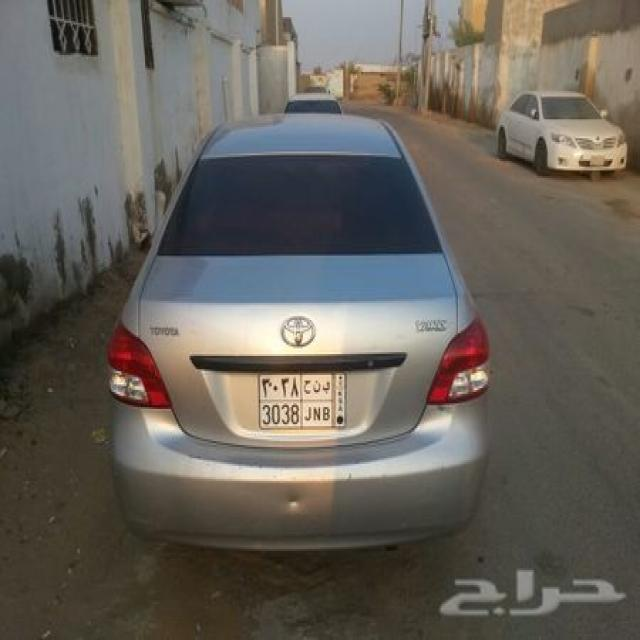license_plate: (256, 369, 348, 434)
